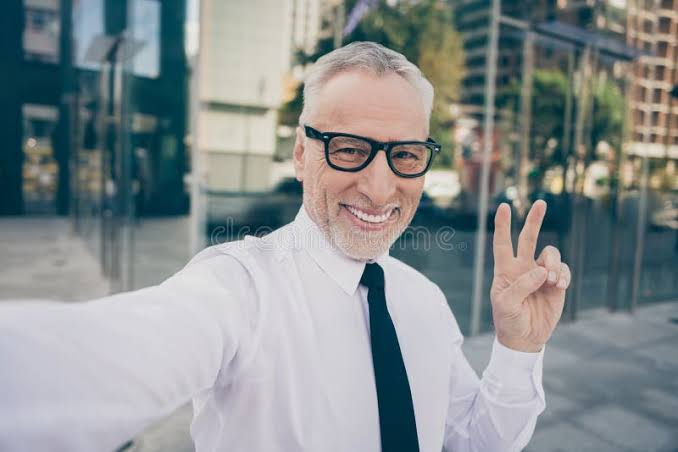peace_sign: (487, 189, 581, 353)
